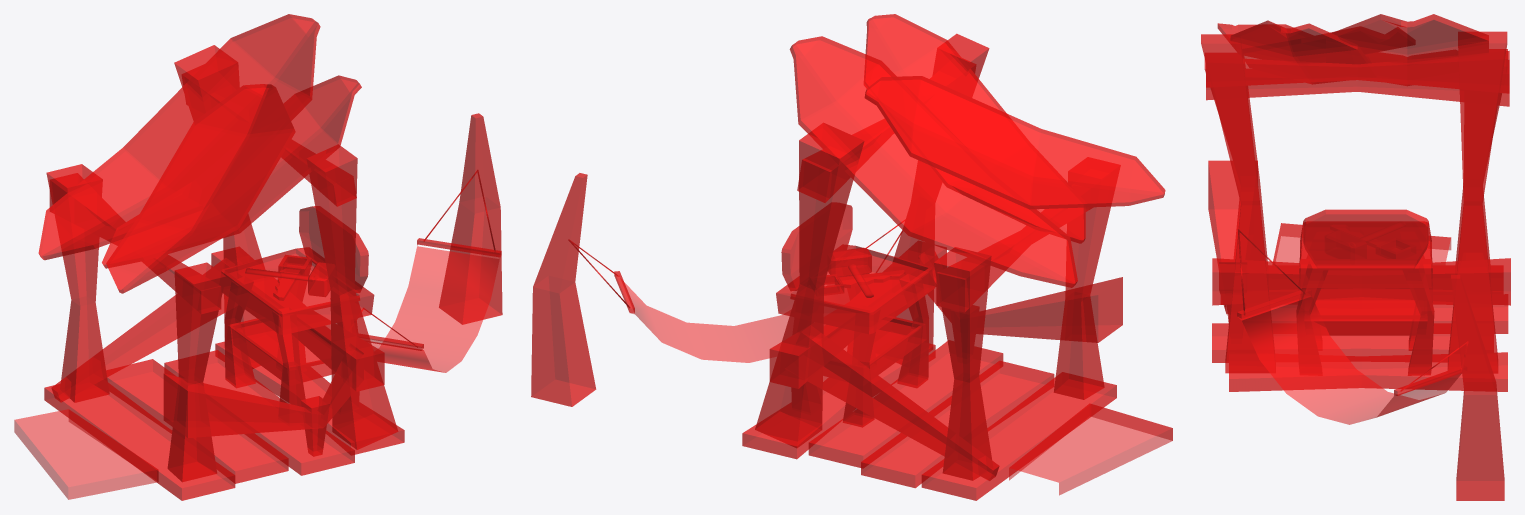
Rendered from Builder_house_impossible_to_place.fbx.
3 views of the same model, side by side, from view 1: azimuth 30°, elevation 25°; view 2: azimuth 150°, elevation 25°; view 3: azimuth 270°, elevation 25° (orthographic). The views are drawn at different scales.
Parts seen in each view (by area): view 1: Cube; view 2: Cube; view 3: Cube.
Part boxes in pixels (x1,y1,x2,y2): Cube: [14, 14, 502, 500]; Cube: [531, 14, 1172, 500]; Cube: [1201, 14, 1510, 500].
Bounding box in the file's own units: 6 × 3 × 4.
